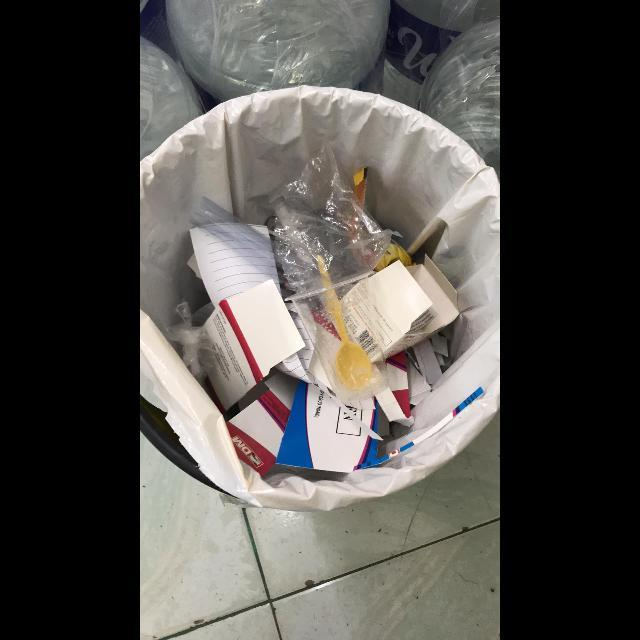paper: (275, 350, 485, 473), (202, 279, 305, 414), (368, 254, 459, 359), (190, 224, 282, 307), (226, 372, 298, 477)
plastic: (286, 270, 389, 404)
